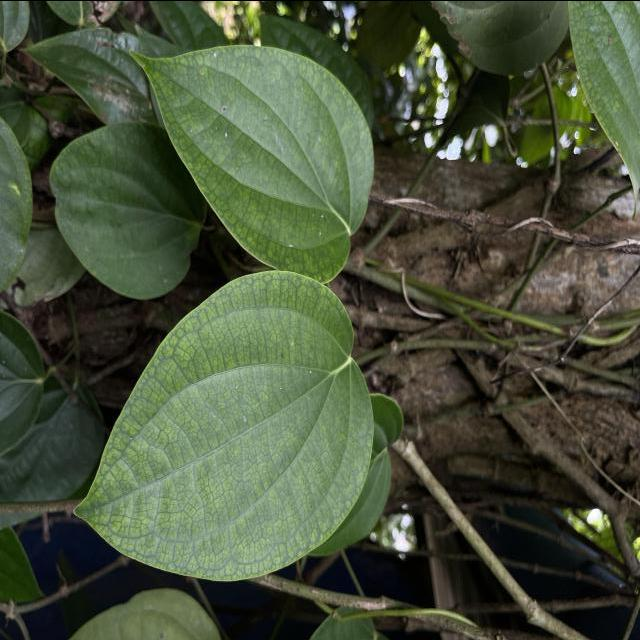Piper nigrum: (71, 268, 378, 582), (126, 41, 376, 286)
